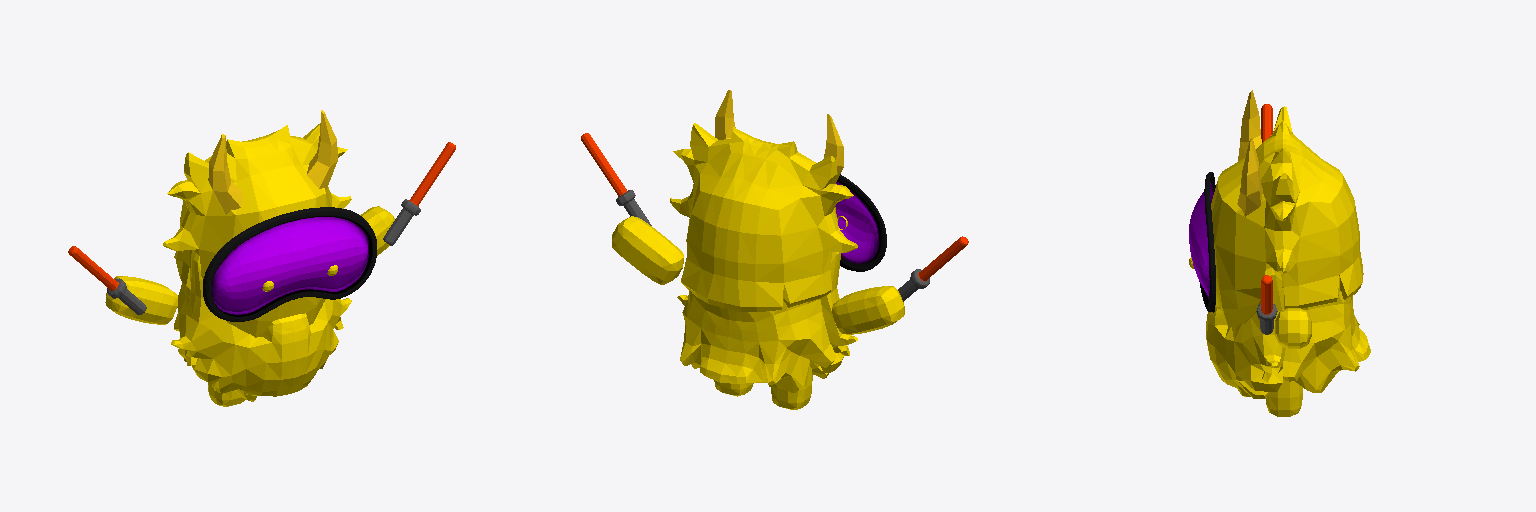
3 renders of one model, left to right at view 1: azimuth 30°, elevation 25°; view 2: azimuth 150°, elevation 25°; view 3: azimuth 270°, elevation 25°, orthographic.
Parts seen in each view (by area): view 1: rm.002; view 2: rm.002; view 3: rm.002.
Boxes of the visible parts, <box> form: rm.002: <box>68,110,455,406</box>; rm.002: <box>581,90,968,409</box>; rm.002: <box>1189,90,1370,416</box>.
Size of the model in its own units: 8.99 by 6.36 by 3.68.
2 materials, 1 textured.